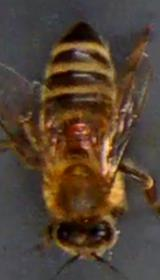varroa_mite: (59, 117, 96, 137)
